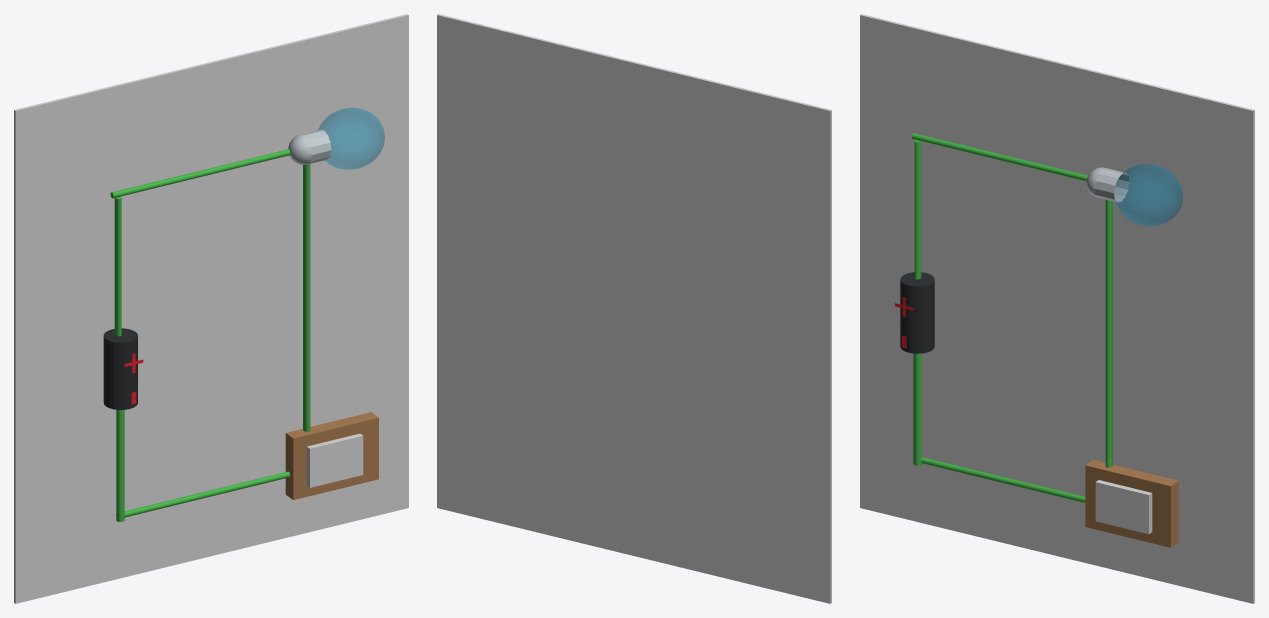
File: tinker.obj
The picture shows the model from 3 angles, left to right: view 1: azimuth 30°, elevation 25°; view 2: azimuth 150°, elevation 25°; view 3: azimuth 330°, elevation 25°; orthographic projection.
Visible parts, largest first — view 1: group_0_16448250, group_0_4634441, group_0_11107152, group_0_-1040146473, group_0_2829873, group_0_12568524; view 2: group_0_16448250; view 3: group_0_16448250, group_0_4634441, group_0_11107152, group_0_-1040146473, group_0_2829873, group_0_12568524.
Part boxes in pixels (x1,y1,x2,y2): group_0_16448250: (14,14,408,603); group_0_4634441: (110,149,310,521); group_0_11107152: (285,412,378,499); group_0_-1040146473: (318,108,384,169); group_0_2829873: (103,328,137,409); group_0_12568524: (288,129,331,164); group_0_16448250: (437,14,831,603); group_0_16448250: (860,14,1254,603); group_0_4634441: (911,133,1112,502); group_0_11107152: (1085,460,1178,547); group_0_-1040146473: (1114,164,1182,225); group_0_2829873: (900,272,934,353); group_0_12568524: (1086,167,1129,202).
Size of the model in its own units: 147 by 176 by 26.
